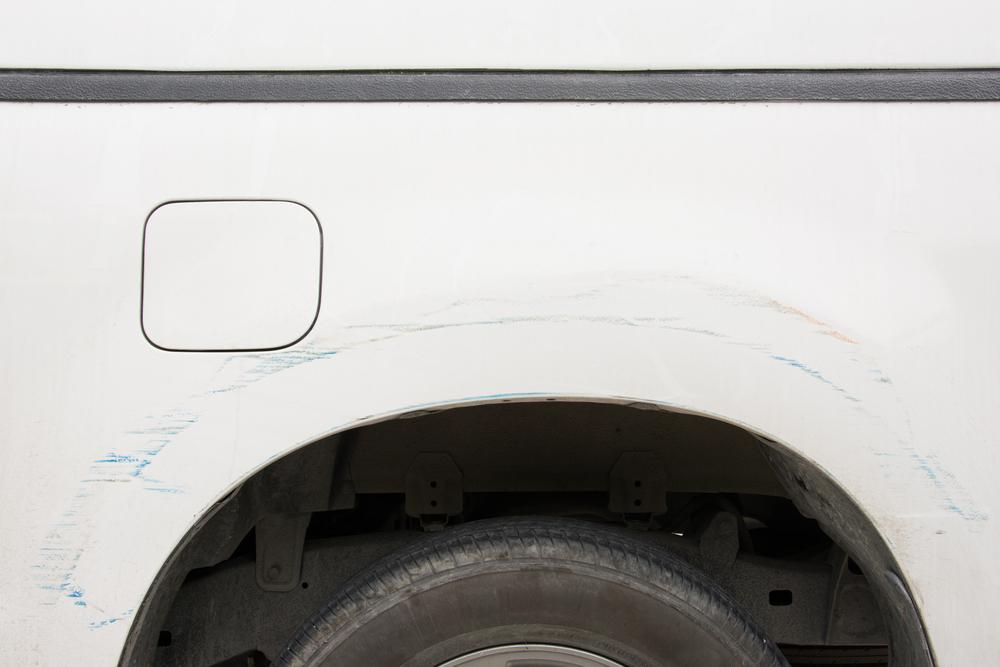scratch: (20, 273, 1000, 629)
